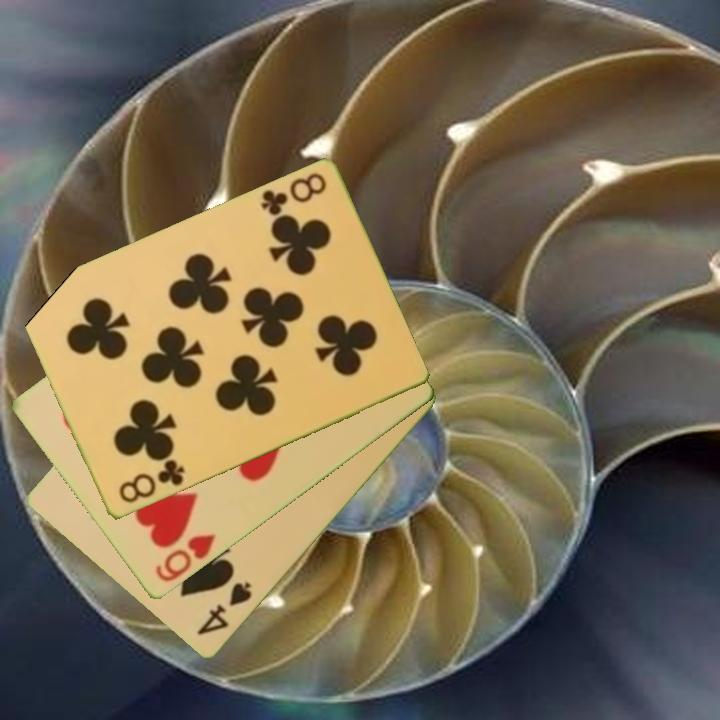4s: (193, 578, 255, 639)
6h: (151, 530, 219, 586)
8c: (114, 456, 188, 507), (257, 170, 329, 220)
